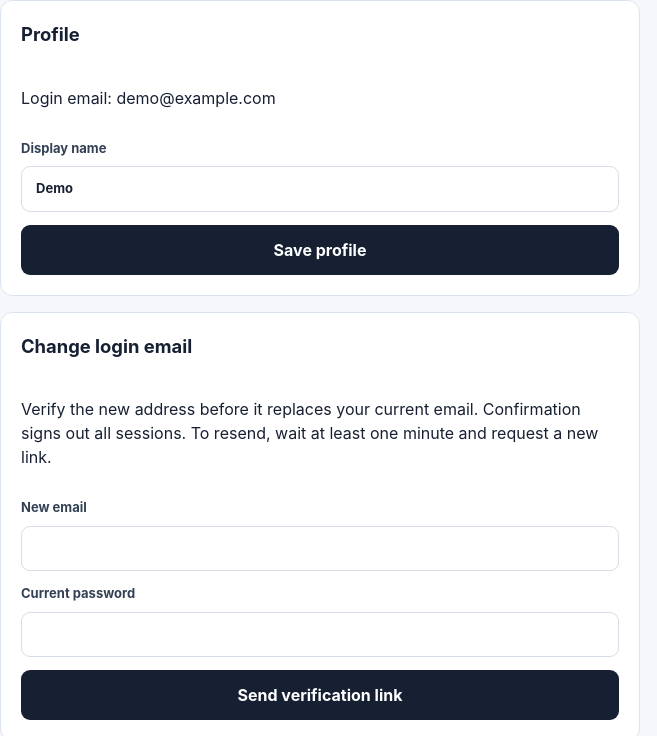
Test case: customer account › loads and saves only allowed profile fields
Replace the text in the field labelled "Display name" with "Updated": (320, 189) [21,166,619,212]
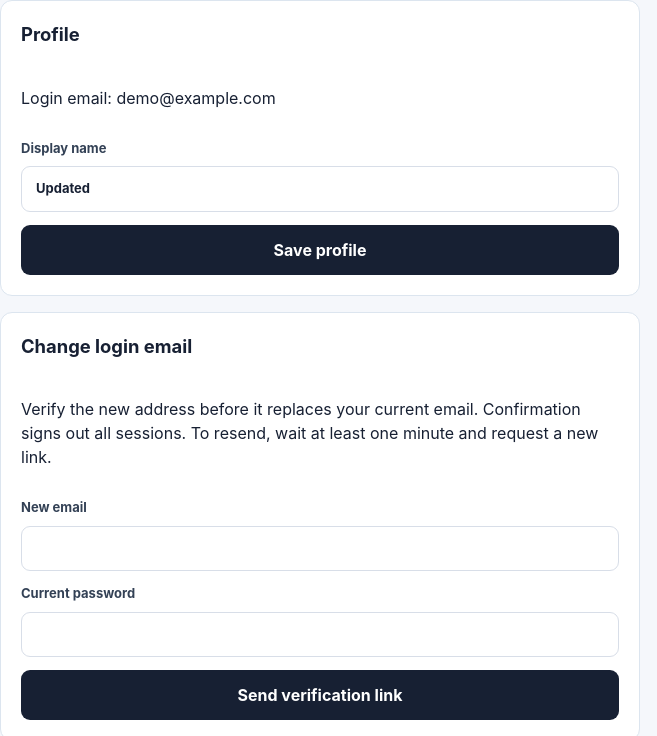
Click the button "Save profile": (320, 250) [21,225,619,275]
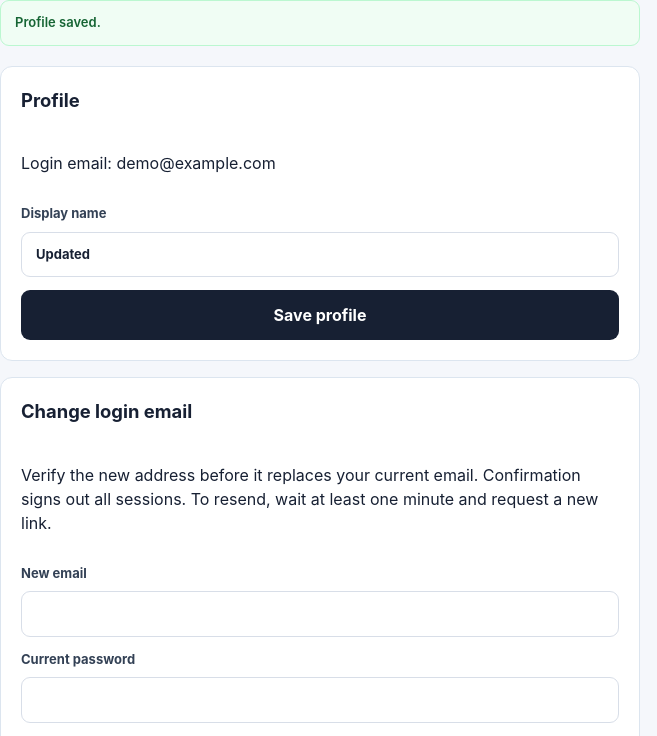
Check: the text "Profile saved." is shown, box [0,0,640,46]
